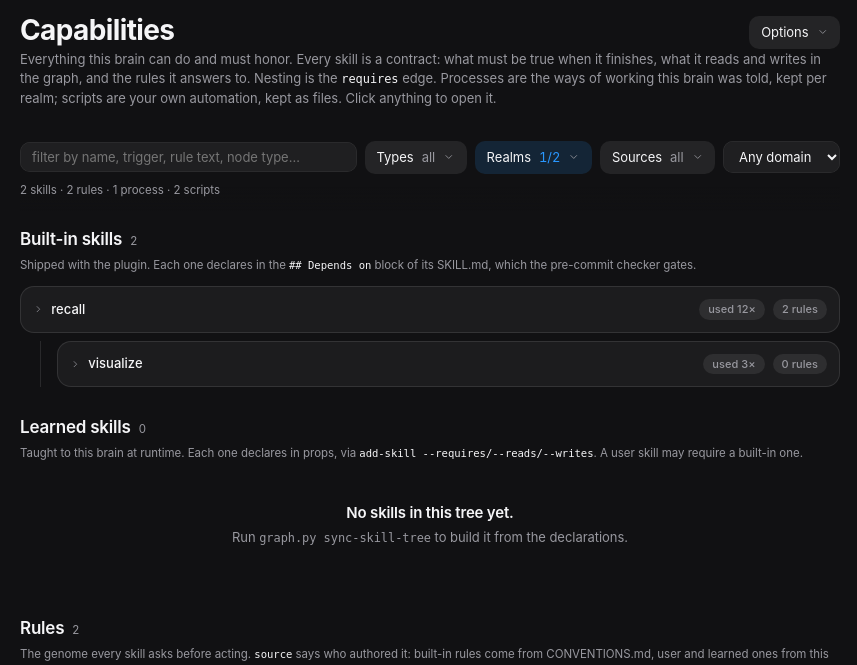
Test: Capabilities › filters both corpora from one text box
Expected: the text "2 skills · 2 rules · 1 process · 2 scripts" is shown, [20,182,220,200]
Type "emoji" into the search field at (188,158), box [20,142,356,172]
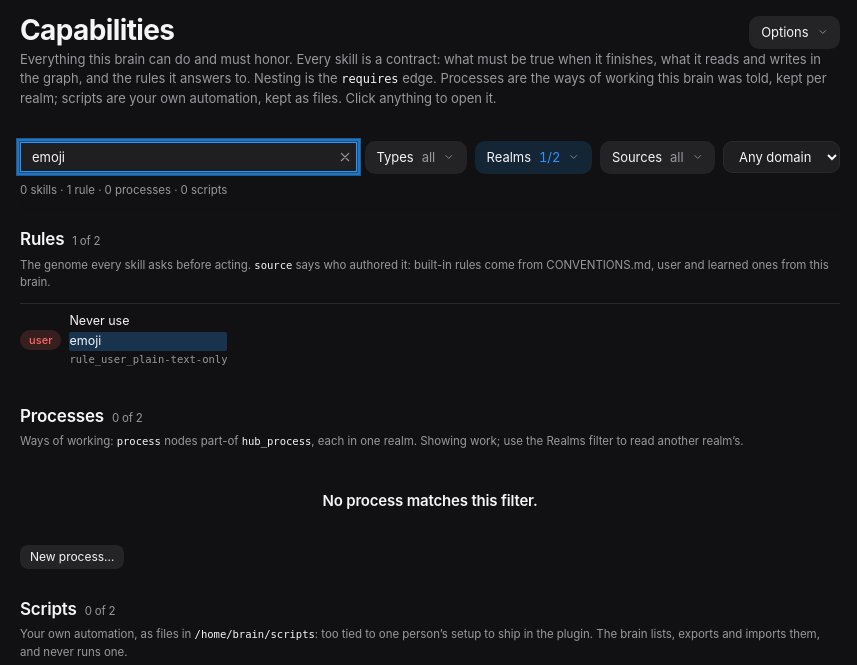
Result: the text "0 skills · 1 rule · 0 processes · 0 scripts" is shown at [20,182,227,200]
